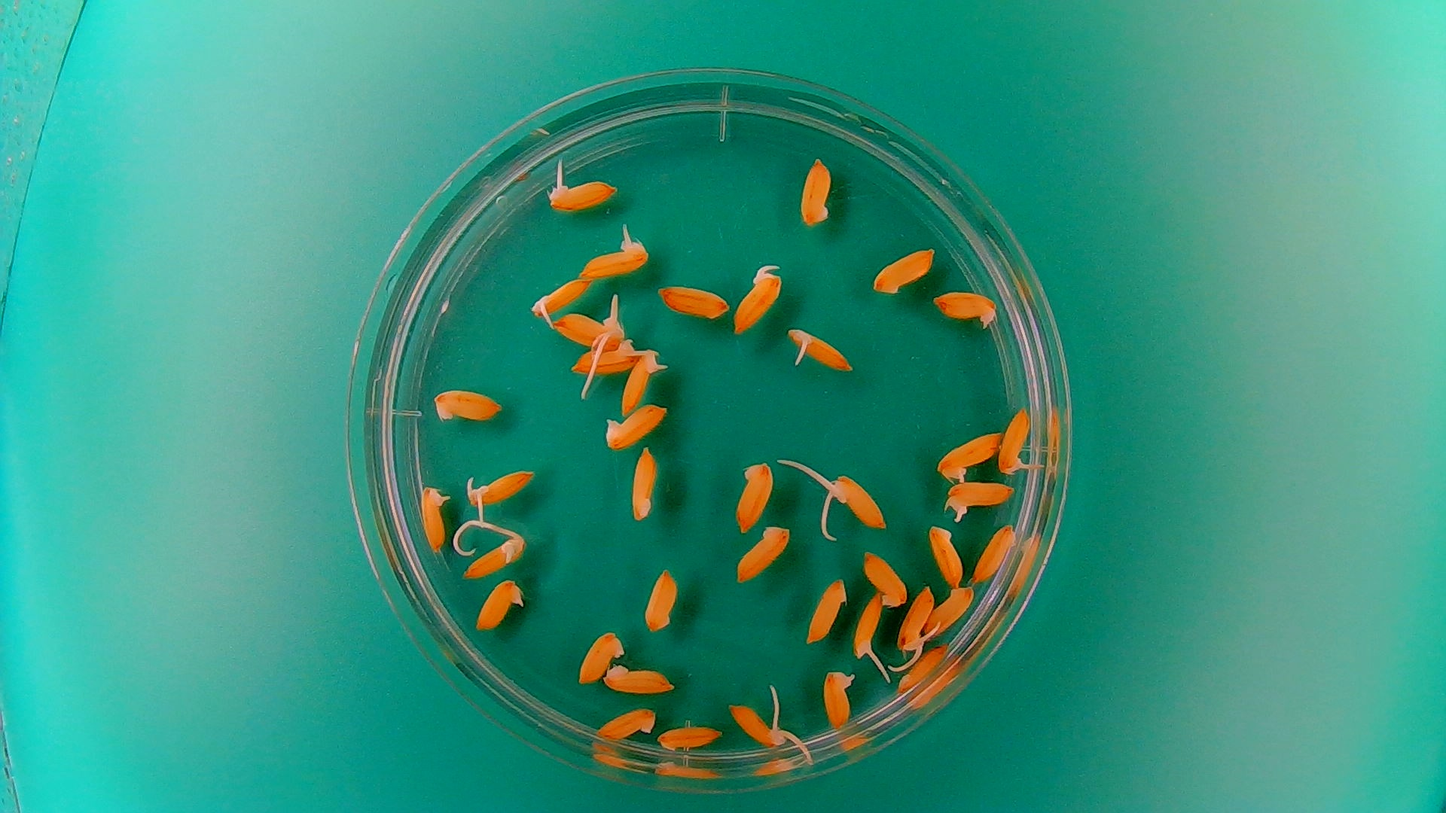no: (870, 233, 938, 302), (734, 522, 793, 584), (600, 400, 670, 451), (733, 458, 776, 534), (804, 576, 849, 644), (575, 626, 626, 685), (970, 522, 1017, 585), (926, 583, 977, 641), (430, 384, 505, 423), (862, 547, 909, 608), (655, 282, 730, 320), (896, 641, 950, 693), (640, 563, 679, 634), (600, 660, 677, 695), (797, 154, 833, 227), (927, 522, 965, 589), (627, 443, 658, 522), (593, 704, 657, 741), (656, 719, 725, 753)
yes: (827, 464, 890, 532), (732, 261, 786, 337), (575, 227, 651, 280), (726, 706, 804, 755), (934, 428, 1002, 482), (784, 324, 857, 374), (544, 164, 620, 212), (460, 528, 527, 580), (941, 477, 1017, 521), (463, 464, 538, 508), (620, 346, 667, 416), (895, 583, 935, 659), (473, 576, 526, 632), (552, 306, 622, 348), (930, 287, 999, 329), (529, 276, 593, 321), (568, 337, 640, 375), (996, 405, 1033, 477), (851, 589, 886, 664), (819, 667, 857, 729), (419, 483, 452, 552)
